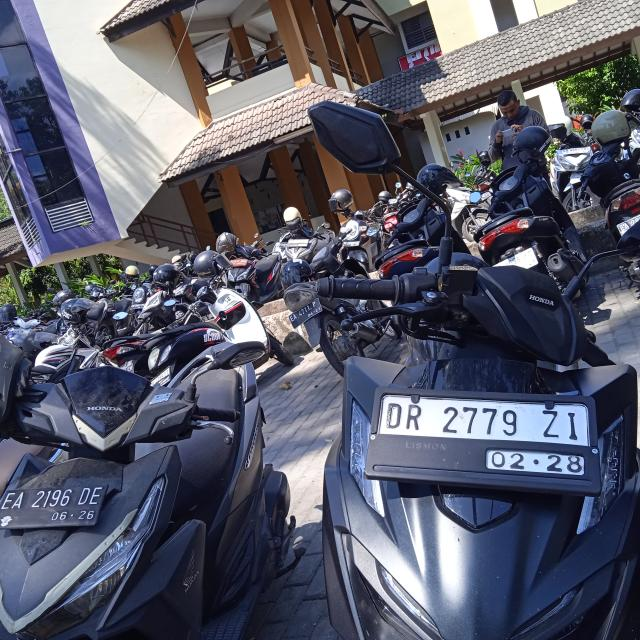plate: (377, 388, 598, 490), (0, 481, 107, 531), (288, 296, 323, 329)
